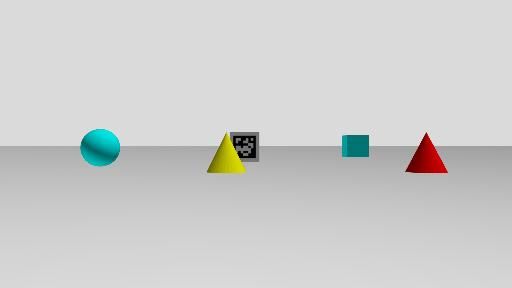red_cone: (404, 131, 448, 174)
yellow_cone: (206, 132, 247, 174)
